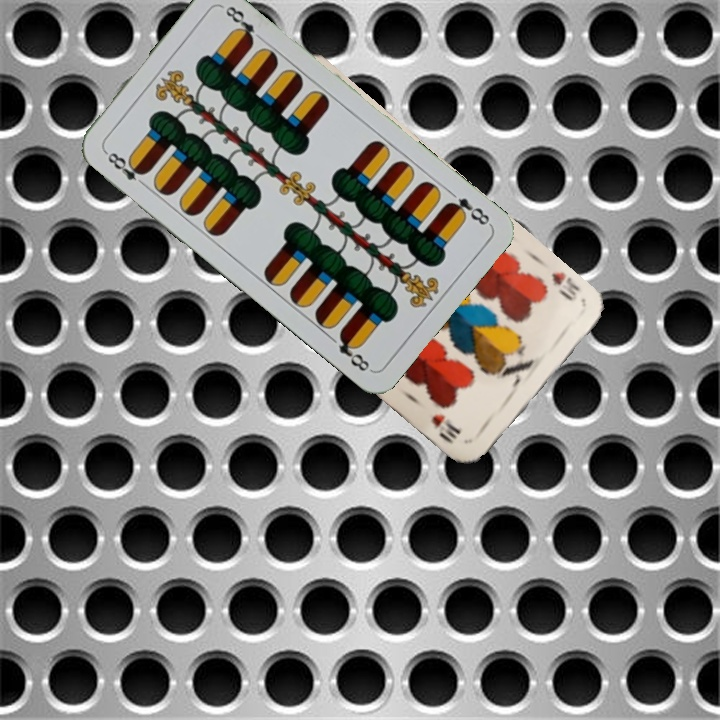E8: (100, 147, 150, 190), (442, 193, 494, 228)
H10: (547, 267, 582, 304)
